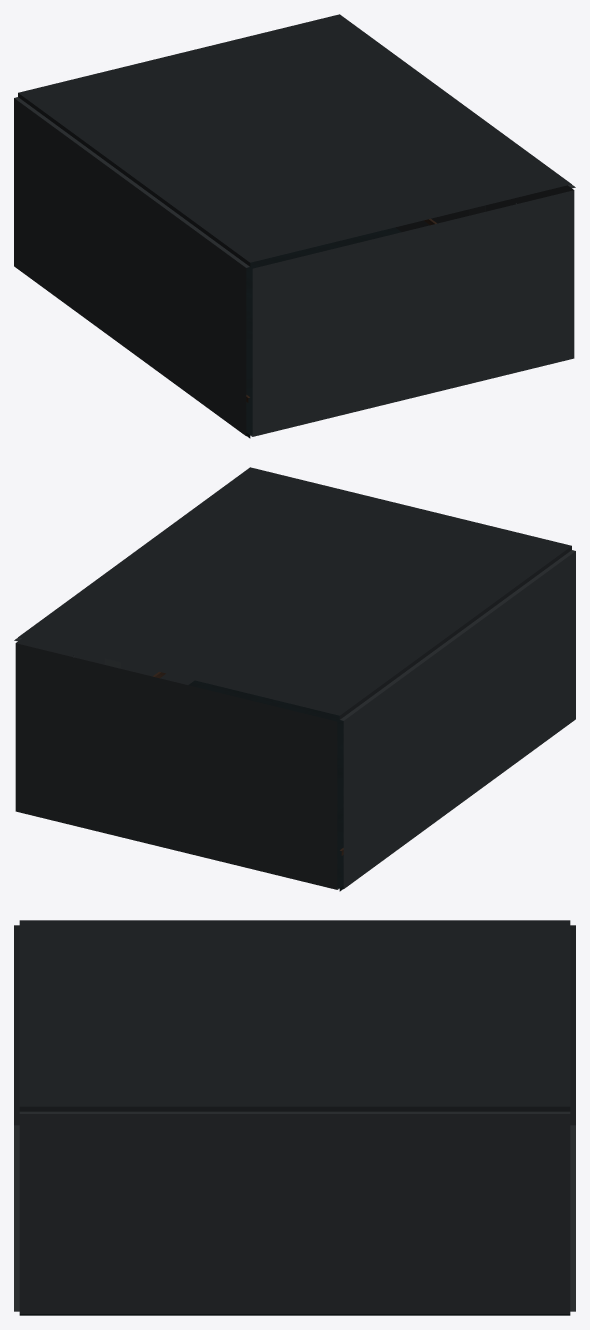
Rendered from focused_practice_hall_venue_v1.gltf.
3 renders of one model, top to bottom at view 1: azimuth 30°, elevation 25°; view 2: azimuth 150°, elevation 25°; view 3: azimuth 270°, elevation 25°, orthographic. The views are drawn at different scales.
Parts seen in each view (by area): view 1: NODE_venue_ceiling_LOD0, NODE_venue_wall_z_pos_LOD0, NODE_venue_wall_x_neg_LOD0, NODE_venue_floor_LOD0, NODE_venue_wall_x_pos_LOD0; view 2: NODE_venue_ceiling_LOD0, NODE_venue_wall_z_neg_LOD0, NODE_venue_wall_x_neg_LOD0, NODE_venue_floor_LOD0, NODE_venue_wall_x_pos_LOD0; view 3: NODE_venue_wall_x_pos_LOD0, NODE_venue_ceiling_LOD0, NODE_venue_wall_z_neg_LOD0, NODE_venue_wall_z_pos_LOD0, NODE_venue_floor_LOD0.
Part boxes in pixels (x1=…): NODE_venue_ceiling_LOD0: x1=18, y1=14, x2=571, y2=266; NODE_venue_wall_z_pos_LOD0: x1=250, y1=189, x2=574, y2=436; NODE_venue_wall_x_neg_LOD0: x1=14, y1=97, x2=249, y2=435; NODE_venue_floor_LOD0: x1=246, y1=227, x2=401, y2=438; NODE_venue_wall_x_pos_LOD0: x1=395, y1=184, x2=575, y2=231; NODE_venue_ceiling_LOD0: x1=18, y1=467, x2=571, y2=719; NODE_venue_wall_z_neg_LOD0: x1=15, y1=642, x2=339, y2=889; NODE_venue_wall_x_neg_LOD0: x1=340, y1=550, x2=575, y2=888; NODE_venue_floor_LOD0: x1=188, y1=680, x2=343, y2=891; NODE_venue_wall_x_pos_LOD0: x1=14, y1=637, x2=194, y2=684; NODE_venue_wall_x_pos_LOD0: x1=19, y1=1111, x2=570, y2=1313; NODE_venue_ceiling_LOD0: x1=19, y1=920, x2=570, y2=1111; NODE_venue_wall_z_neg_LOD0: x1=570, y1=925, x2=575, y2=1311; NODE_venue_wall_z_pos_LOD0: x1=14, y1=925, x2=19, y2=1311; NODE_venue_floor_LOD0: x1=19, y1=1314, x2=570, y2=1315.
Size of the model in its own units: 8.2 by 4.18 by 10.2.
Materials: 6 (3 with a texture image).
